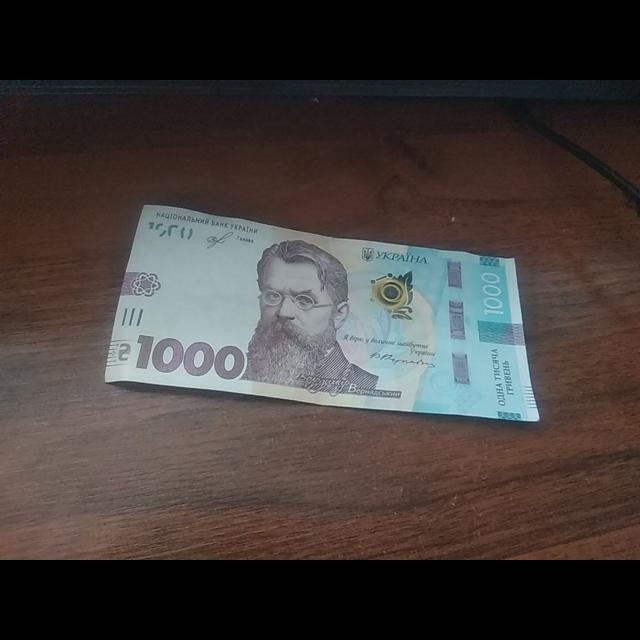1000uah: (104, 205, 539, 421)
